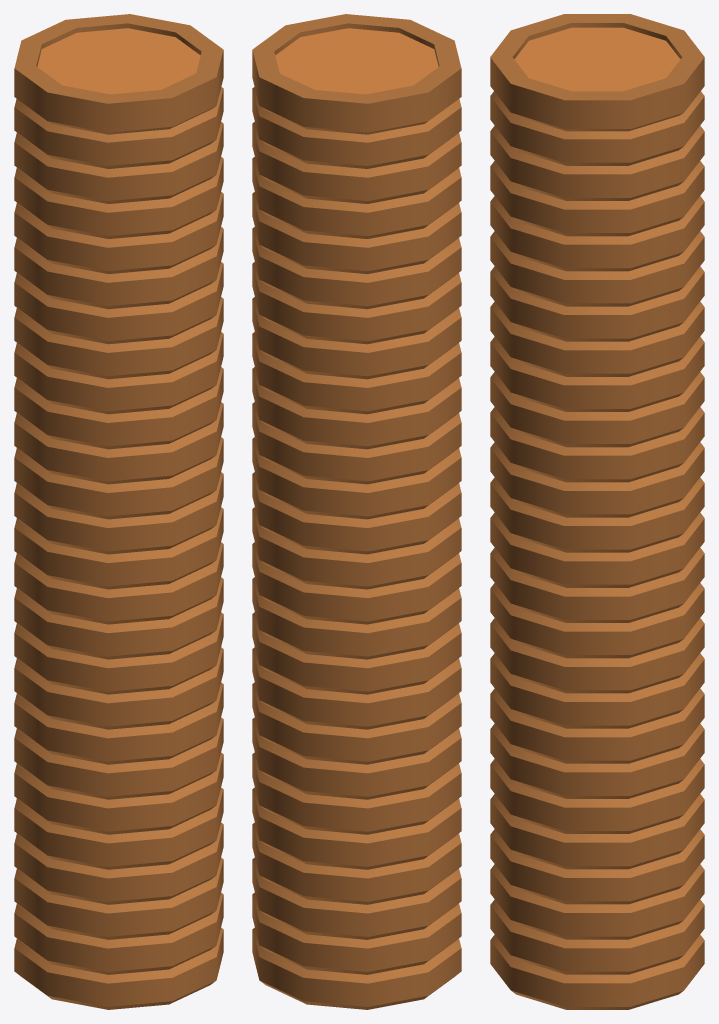
The model's file is Coin_Tower_10.fbx.
3 renders of one model, left to right at view 1: azimuth 30°, elevation 25°; view 2: azimuth 150°, elevation 25°; view 3: azimuth 270°, elevation 25°, orthographic.
Visible parts, largest first — view 1: Coin_Tower_10; view 2: Coin_Tower_10; view 3: Coin_Tower_10.
Part boxes in pixels (x1,y1,x2,y2): Coin_Tower_10: (14,14,223,1009); Coin_Tower_10: (252,14,461,1009); Coin_Tower_10: (490,14,704,1009).
Bounding box in the file's own units: 0.0413 × 0.204 × 0.0435.
